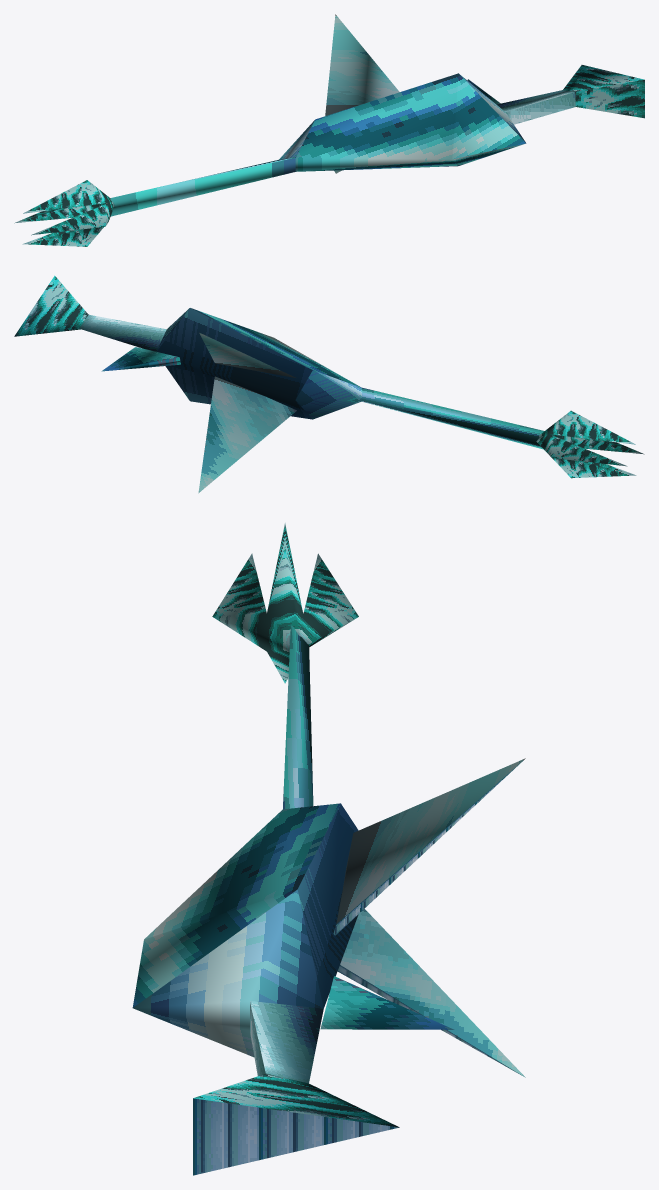
The model's file is 15-farsight-xr-20-tp.glb.
3 views of the same model, one above another, from view 1: azimuth 30°, elevation 25°; view 2: azimuth 150°, elevation 25°; view 3: azimuth 270°, elevation 25° (orthographic). The views are drawn at different scales.
Parts seen in each view (by area): view 1: gun; view 2: gun; view 3: gun.
Boxes of the visible parts, x1,y1,x2,y2 form: gun: [14, 14, 644, 246]; gun: [14, 275, 644, 493]; gun: [132, 523, 525, 1175].
Size of the model in its own units: 1463 by 373 by 416.
9 materials, 9 textured.
